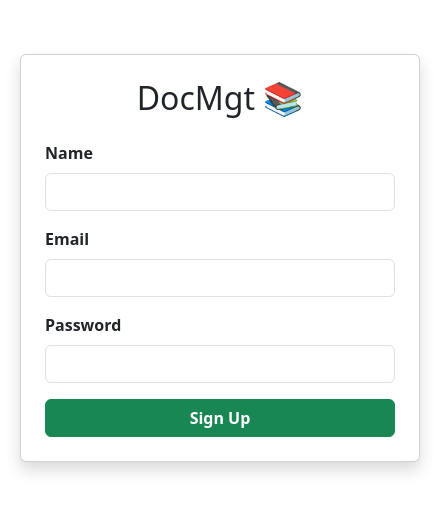
Signup UI › shows validation errors when fields are empty
The width and height of the screenshot is (441, 529).
Click the button "Sign Up". click: (220, 418)
box: [45, 399, 395, 437]
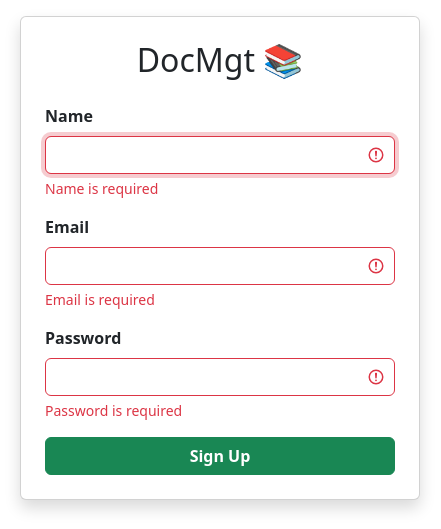
Result: the text "Name is required" is shown 3 times at [45, 179, 158, 198]; [45, 290, 155, 309]; [45, 401, 182, 420]
